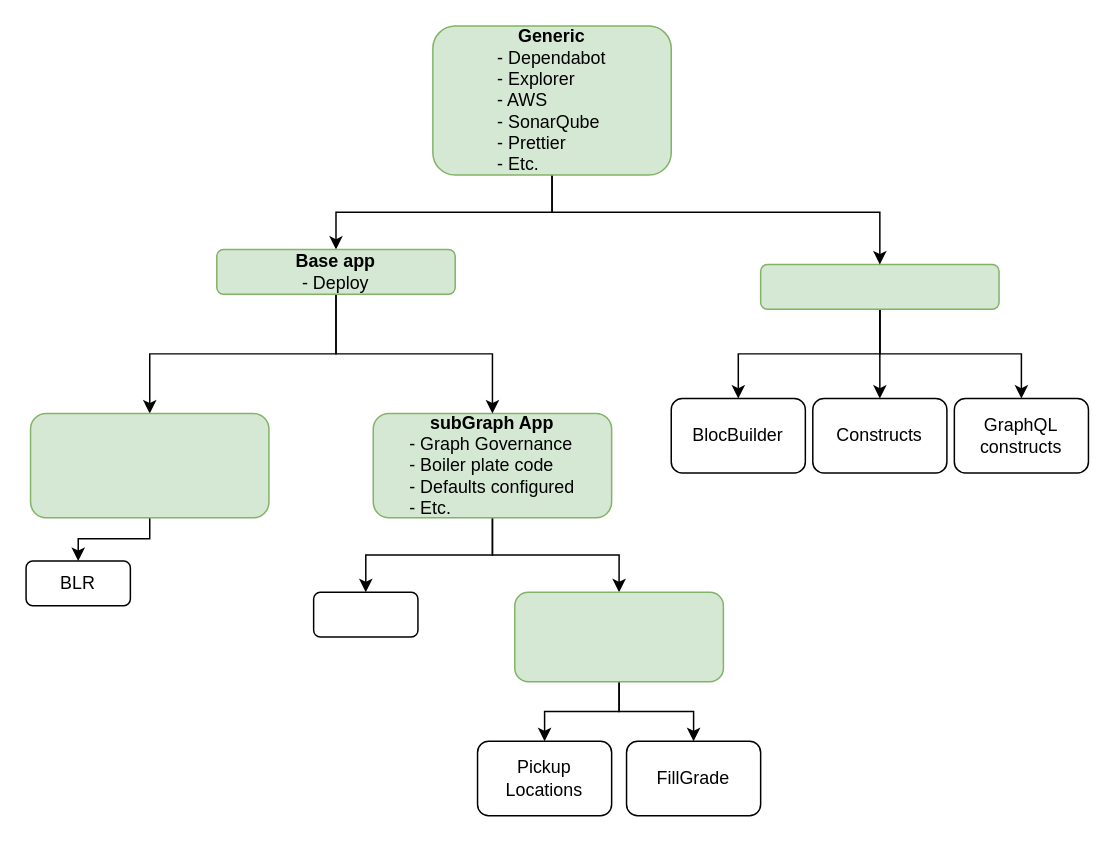
Image size: 1115x842. Some labels were removed from this diagram. The box of each missing label's shape, as (x1, y1, x2, y2) in pixels:
BLR/API: (312, 591, 418, 637)
Data processing App: (29, 412, 269, 518)
Packages: (759, 263, 999, 309)
SDOG - Raw Data File - Generate resolvers - Extended boilerplate: (513, 591, 723, 682)
